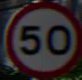Speed limit: (2, 2, 79, 71)
